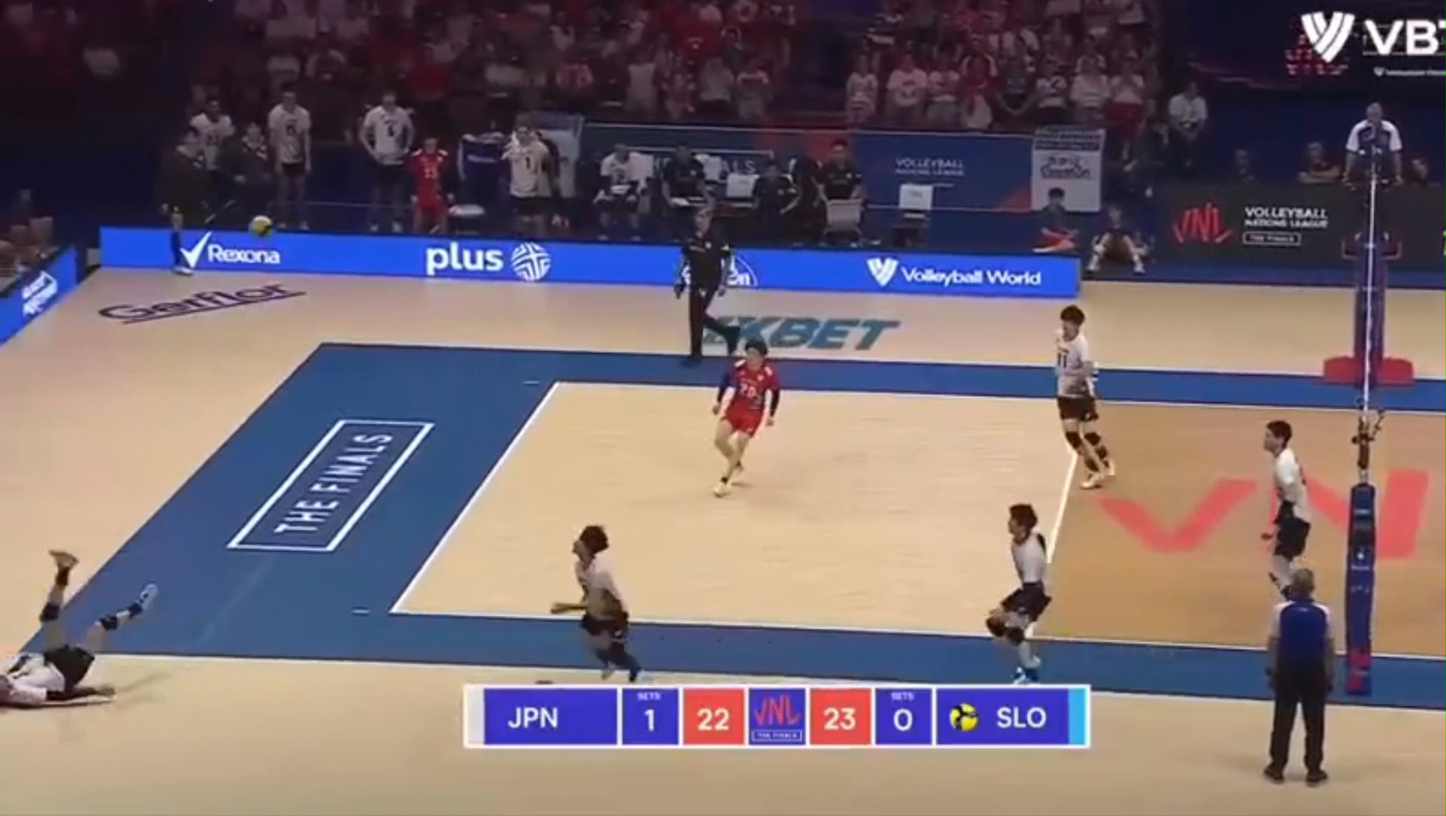ball: (249, 214, 274, 237)
player 1: (0, 550, 156, 707), (551, 525, 641, 682), (985, 503, 1052, 684), (1055, 305, 1115, 489), (714, 340, 781, 495), (1263, 420, 1312, 598)
referee: (1265, 568, 1335, 784), (674, 209, 740, 364), (1342, 101, 1403, 261)
